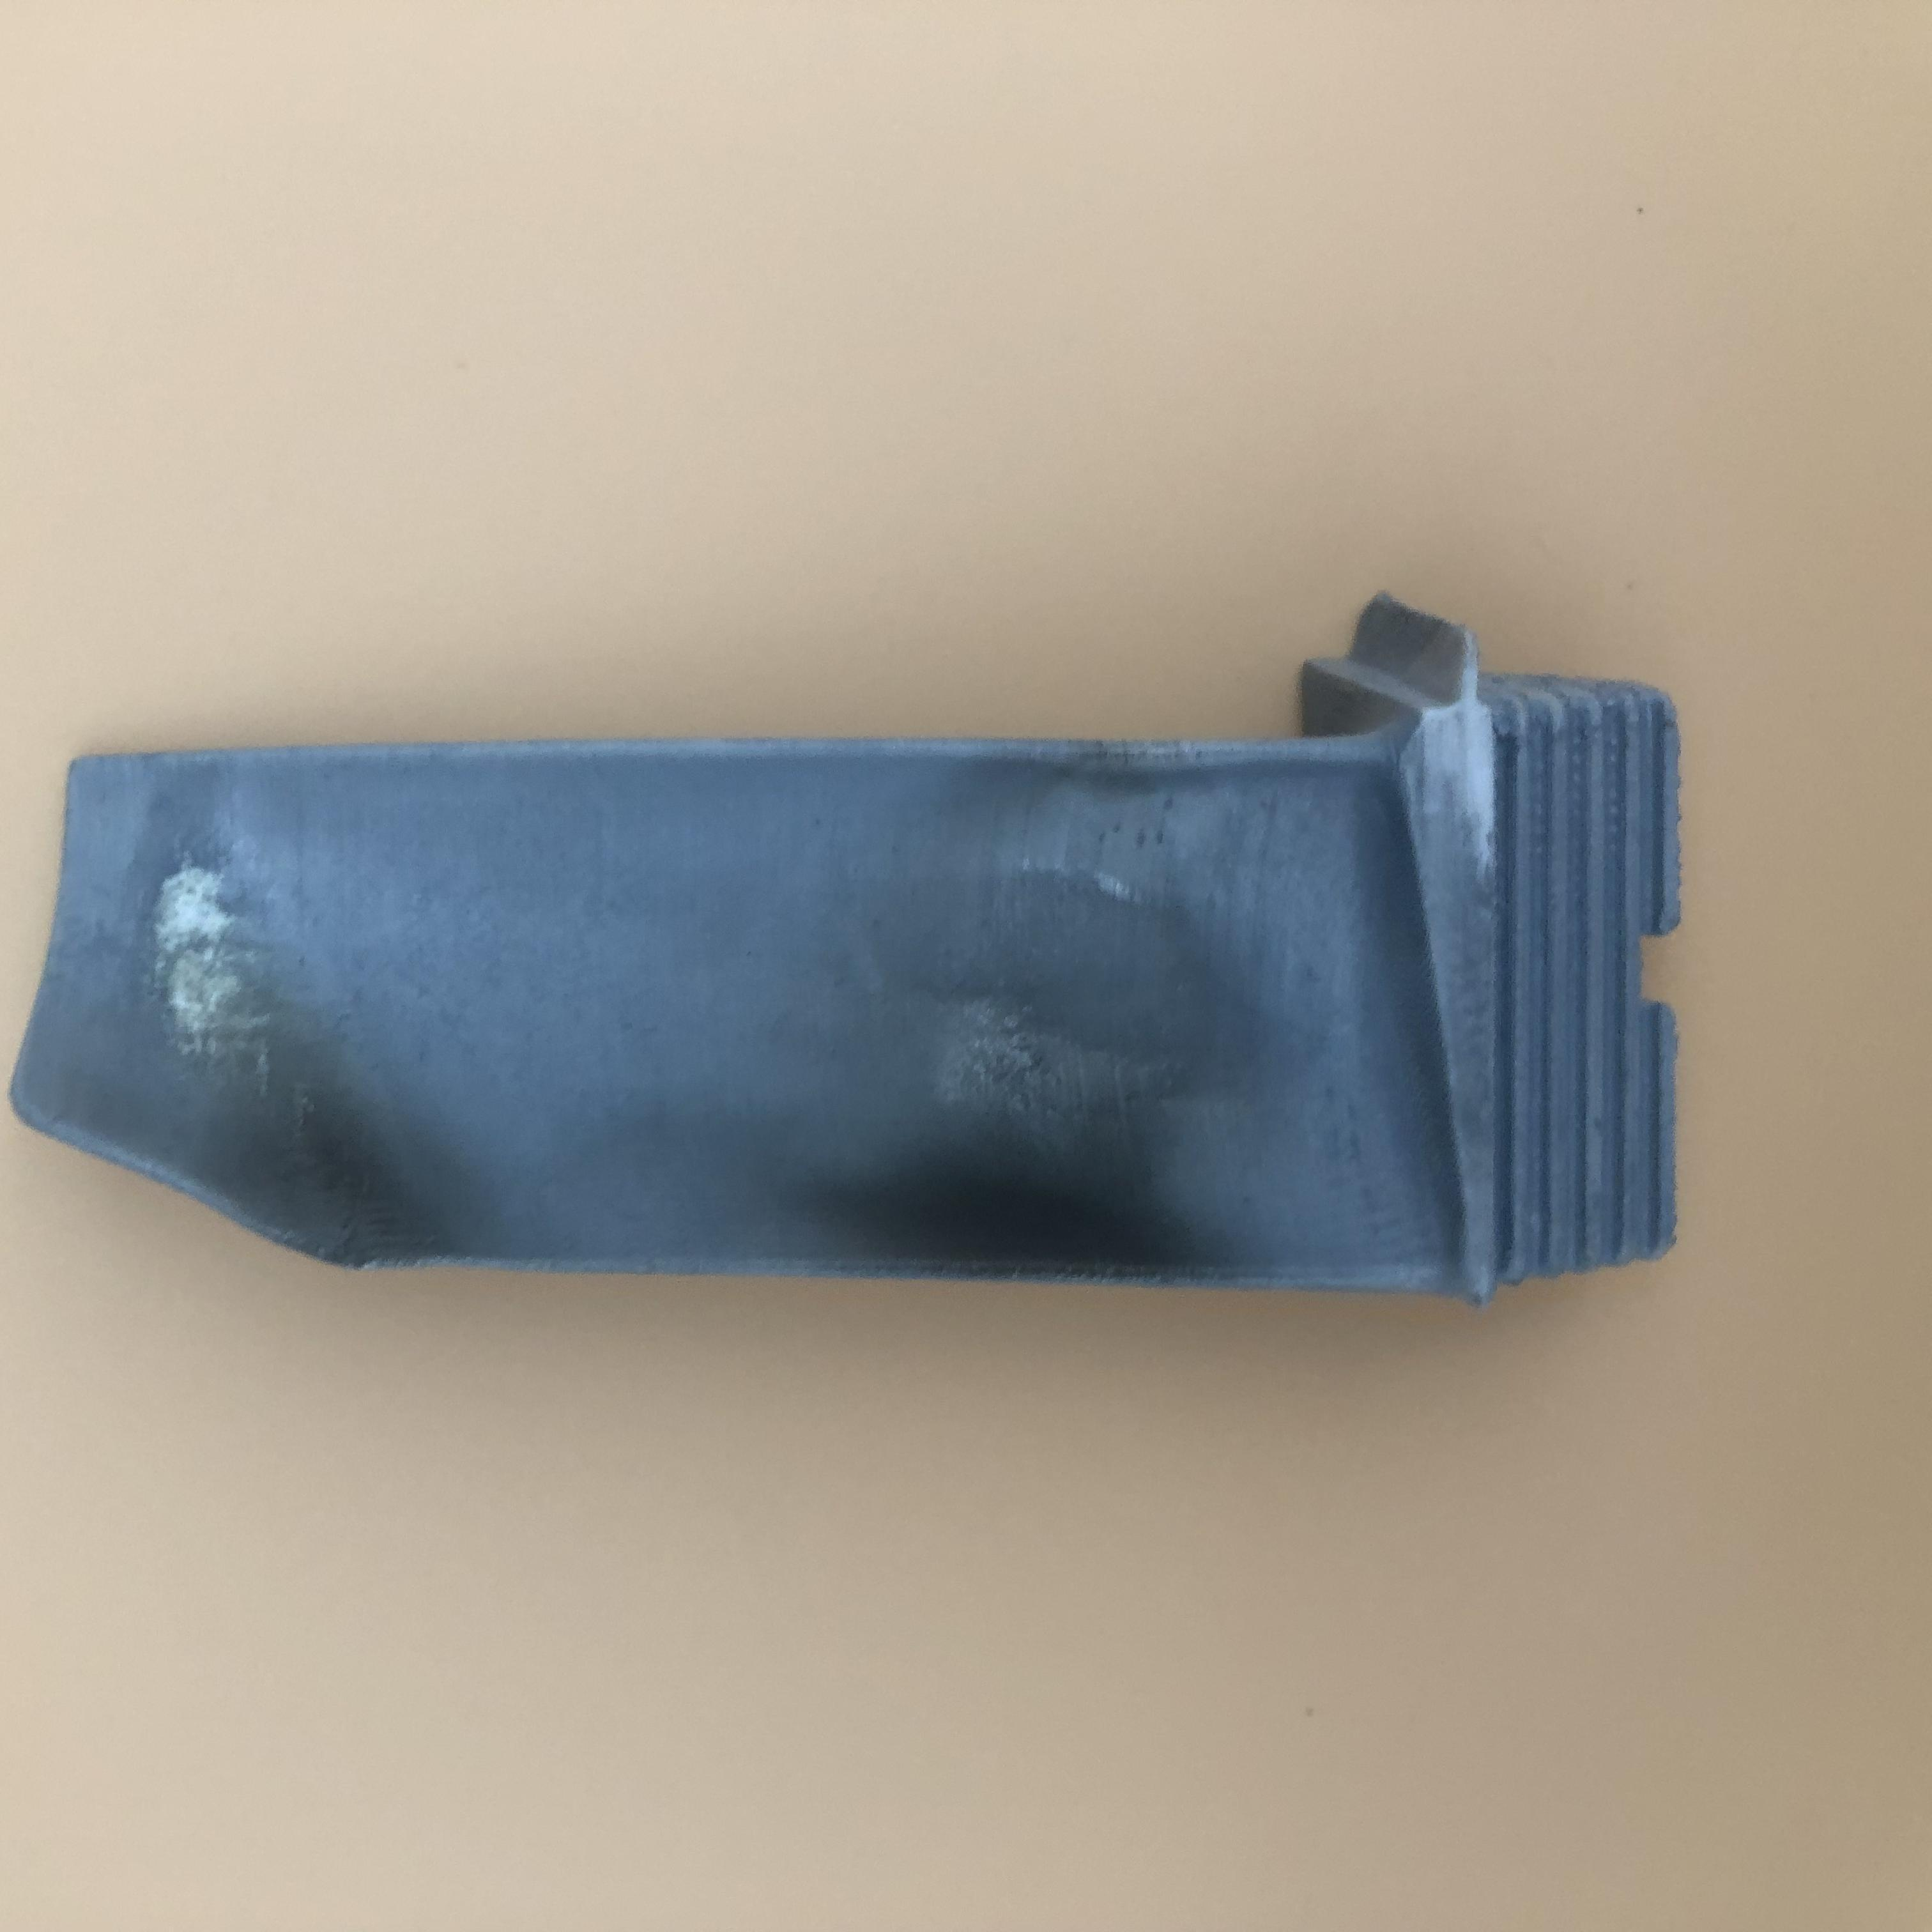ablation: (902, 809, 1269, 1276), (106, 856, 455, 1253)
